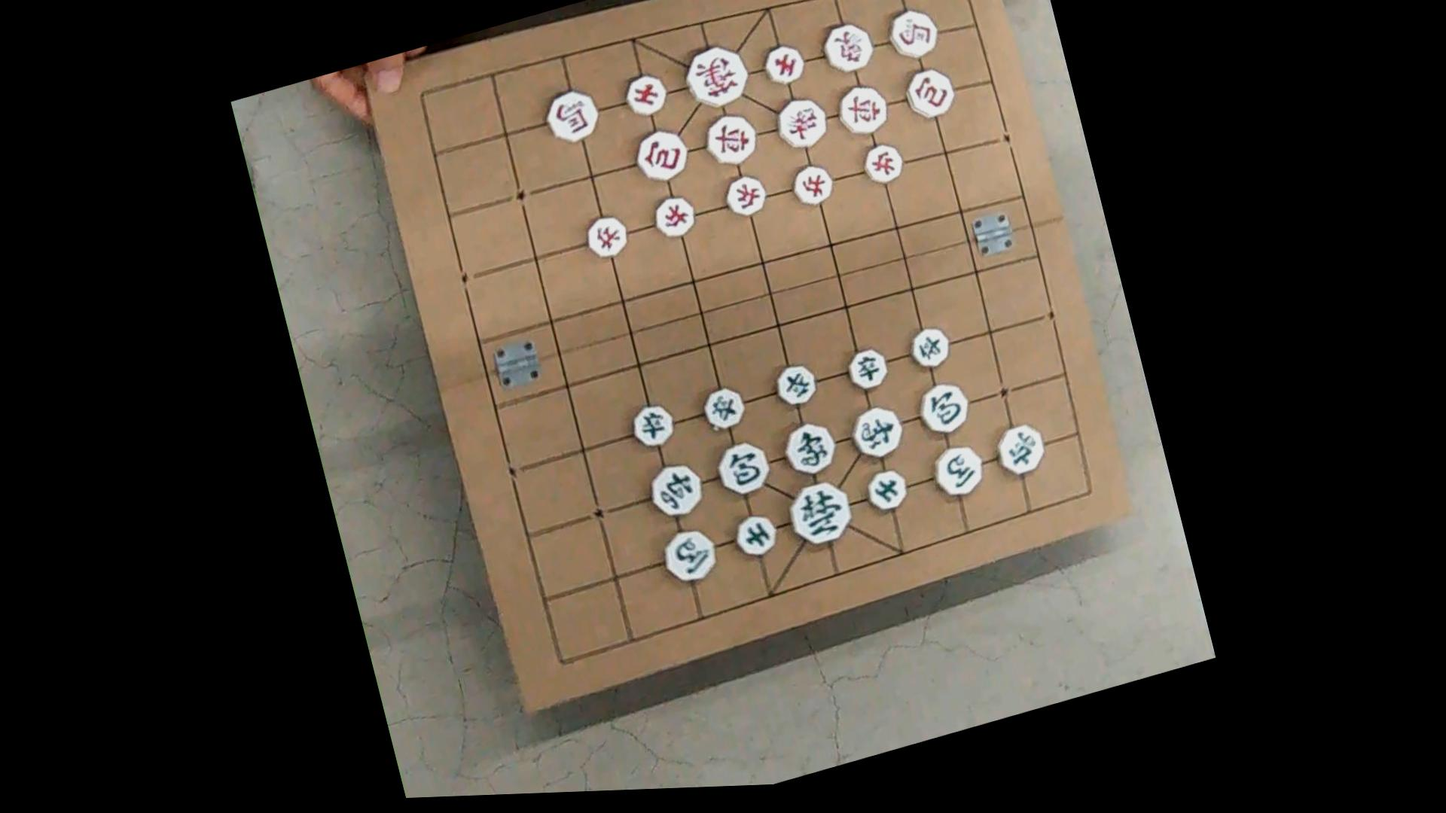cha_green: (646, 460, 706, 521), (993, 420, 1049, 479)
cha_red: (701, 109, 760, 169), (834, 81, 890, 139)
jol_green: (629, 401, 677, 449), (700, 385, 747, 433), (773, 361, 819, 410), (908, 324, 953, 371), (844, 346, 889, 392)
jol_red: (722, 172, 770, 220), (789, 161, 836, 209), (651, 193, 698, 241), (584, 213, 630, 261), (860, 139, 906, 187)
ma_green: (659, 525, 719, 588), (929, 441, 988, 502)
ma_red: (541, 86, 602, 147), (884, 5, 941, 63)
po_green: (714, 437, 773, 499), (916, 379, 973, 439)
po_red: (630, 125, 691, 186), (902, 65, 957, 123)
sa_green: (731, 511, 779, 560), (863, 466, 910, 515)
sa_red: (621, 72, 670, 119), (761, 41, 808, 88)
sang_green: (780, 419, 840, 481), (847, 402, 907, 463)
sang_red: (773, 93, 831, 154), (819, 18, 876, 77)
wang_green: (784, 477, 856, 551)
wang_red: (681, 40, 752, 113)
